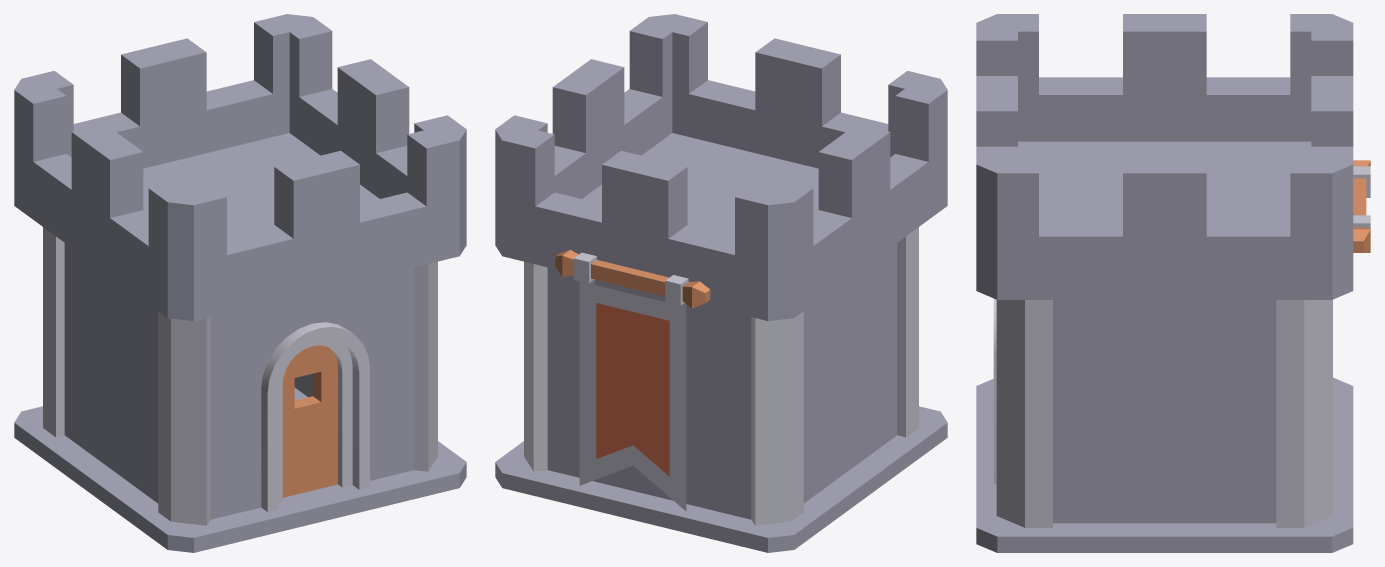
File: SimpleTower.fbx
3 views of the same model, side by side, from view 1: azimuth 30°, elevation 25°; view 2: azimuth 150°, elevation 25°; view 3: azimuth 270°, elevation 25° (orthographic). The views are drawn at different scales.
Visible parts, largest first — view 1: battlement_corner_39, battlement_corner_40, wall_doorwayRound_15, wall_straight_10, wall_border_26, floor_square_38, floor_square_2, door_round_16, wall_border_25; view 2: battlement_corner_40, battlement_corner_39, detail_bannerPoints%_41, wall_straight_33, wall_straight_10, wall_border_26, floor_square_38, floor_square_2, wall_border_25; view 3: wall_straight_13, battlement_corner_39, battlement_corner_40, wall_border_25, floor_square_2, floor_square_38, detail_bannerPoints%_41, wall_doorwayRound_15.
Boxes of the visible parts, x1,y1,x2,y2 form: battlement_corner_39: (167,14,466,320); battlement_corner_40: (14,14,311,315); wall_doorwayRound_15: (210,267,414,519); wall_straight_10: (64,243,158,503); wall_border_26: (43,227,210,525); floor_square_38: (14,387,466,552); floor_square_2: (14,133,466,320); door_round_16: (278,338,352,503); wall_border_25: (414,261,437,471); battlement_corner_40: (496,79,947,320); battlement_corner_39: (495,14,947,254); detail_bannerPoints%_41: (555,250,710,511); wall_straight_33: (547,267,751,519); wall_straight_10: (803,243,897,503); wall_border_26: (751,227,918,525); floor_square_38: (495,406,947,552); floor_square_2: (495,133,947,320); wall_border_25: (524,261,547,471); wall_straight_13: (1053,300,1276,523); battlement_corner_39: (976,14,1353,299); battlement_corner_40: (978,14,1353,171); wall_border_25: (996,299,1332,527); floor_square_2: (976,141,1353,299); floor_square_38: (976,377,1353,552); detail_bannerPoints%_41: (1353,160,1370,252); wall_doorwayRound_15: (993,298,996,484).
Size of the model in its own units: 13.5 by 15 by 14.13.
